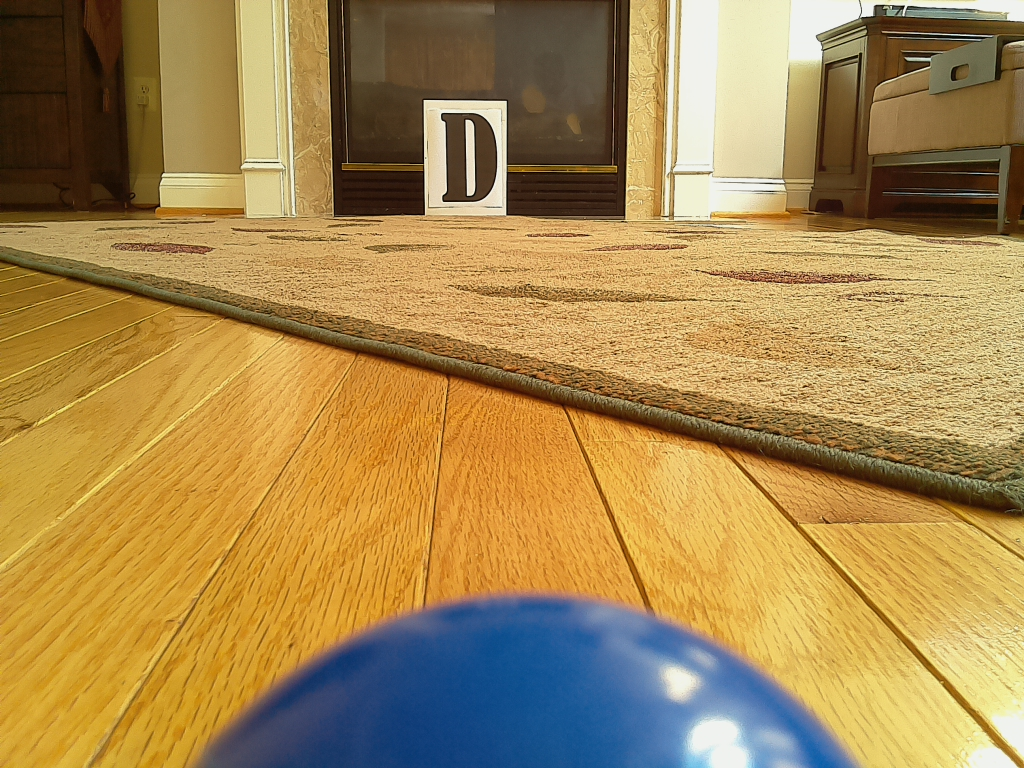letter: (443, 112, 498, 203)
